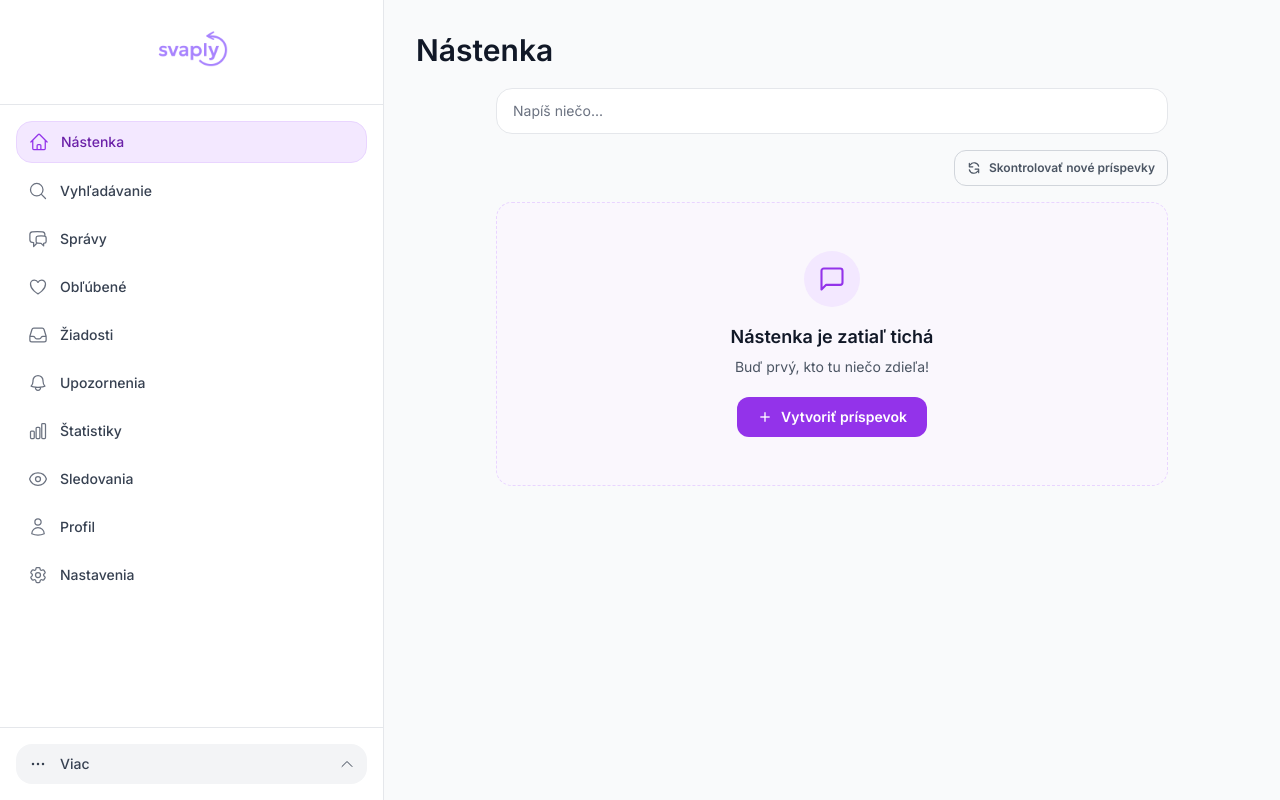
Test case: variant 2: vstup cez ľavé menu „Nastavenia" › Sledovanie: pravý panel aj šípka sú vidieť a šípka vedie rovno na Nástenku
Click the button "Nastavenia" at (97, 574), box [16, 555, 367, 595]
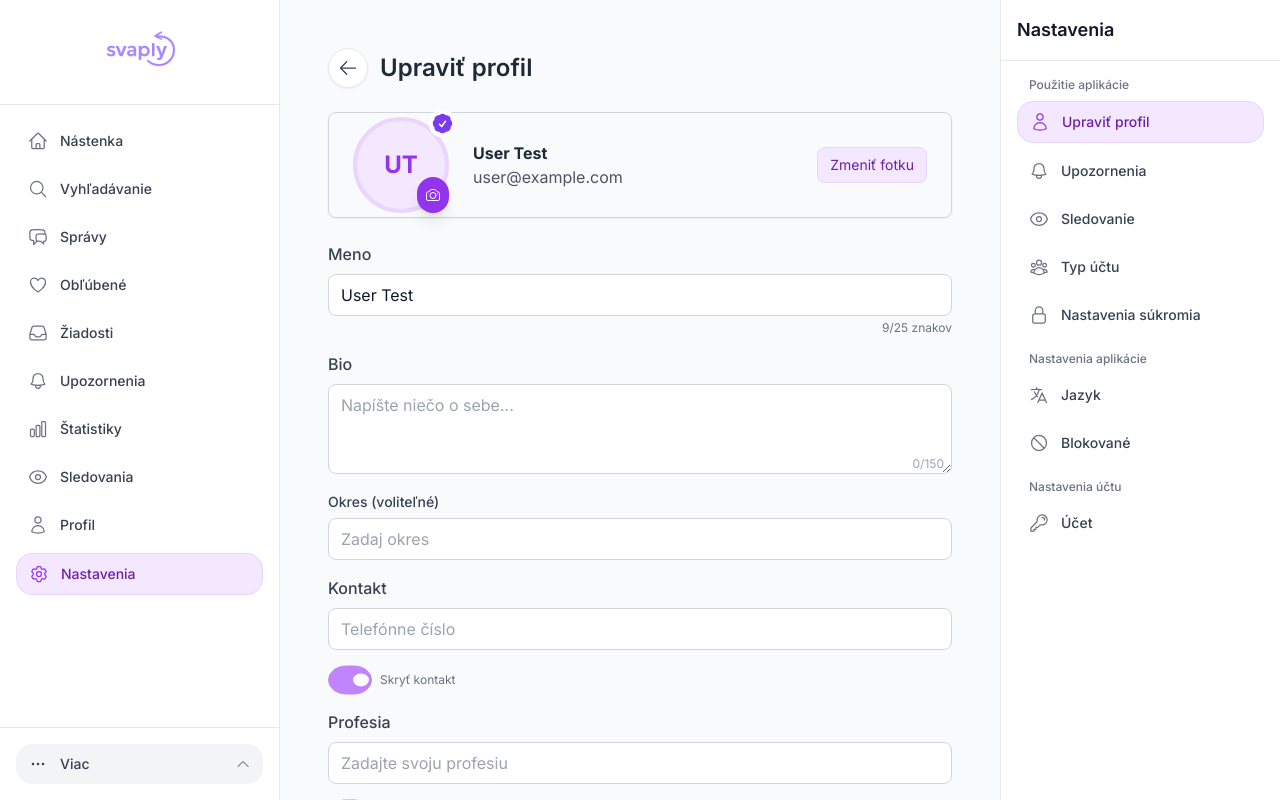
Click the button "Sledovanie" at (1140, 219), box [1017, 199, 1264, 239]
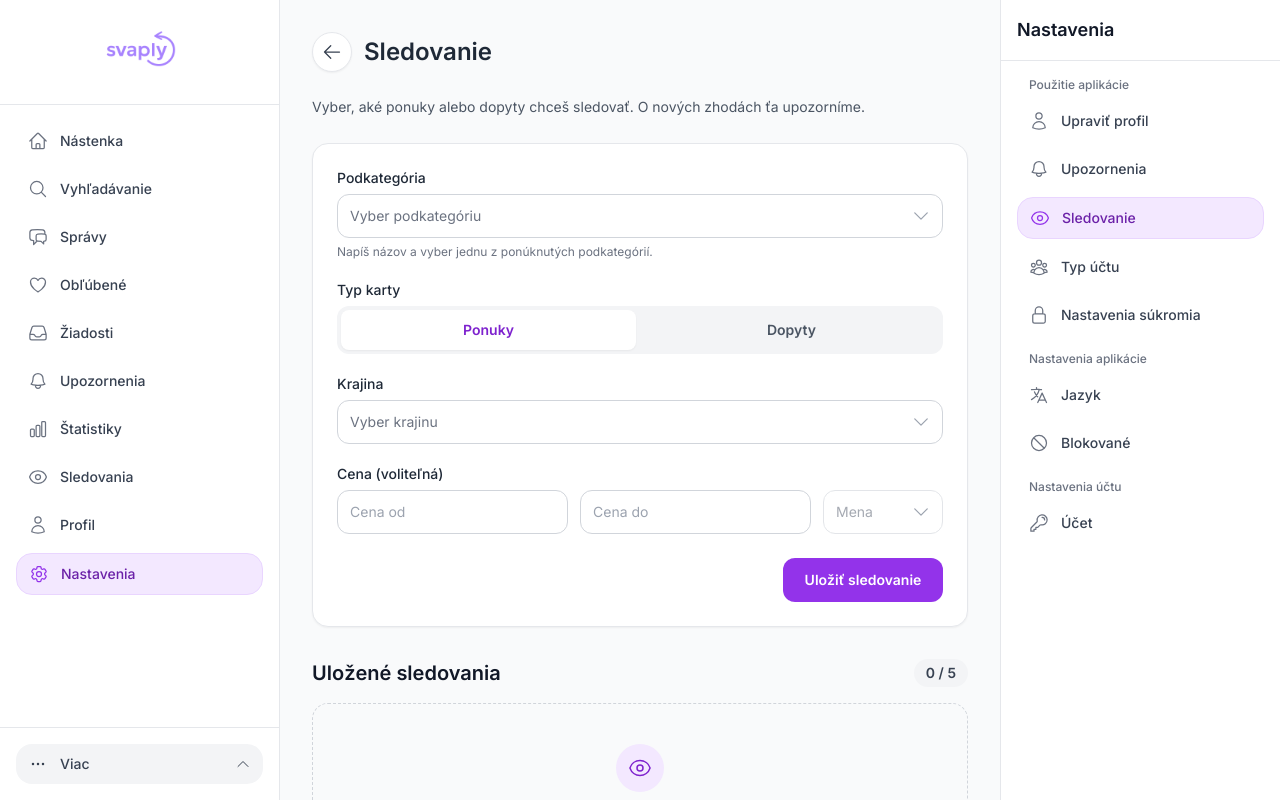
Click the button named "Späť" at (332, 52), box [312, 32, 352, 72]
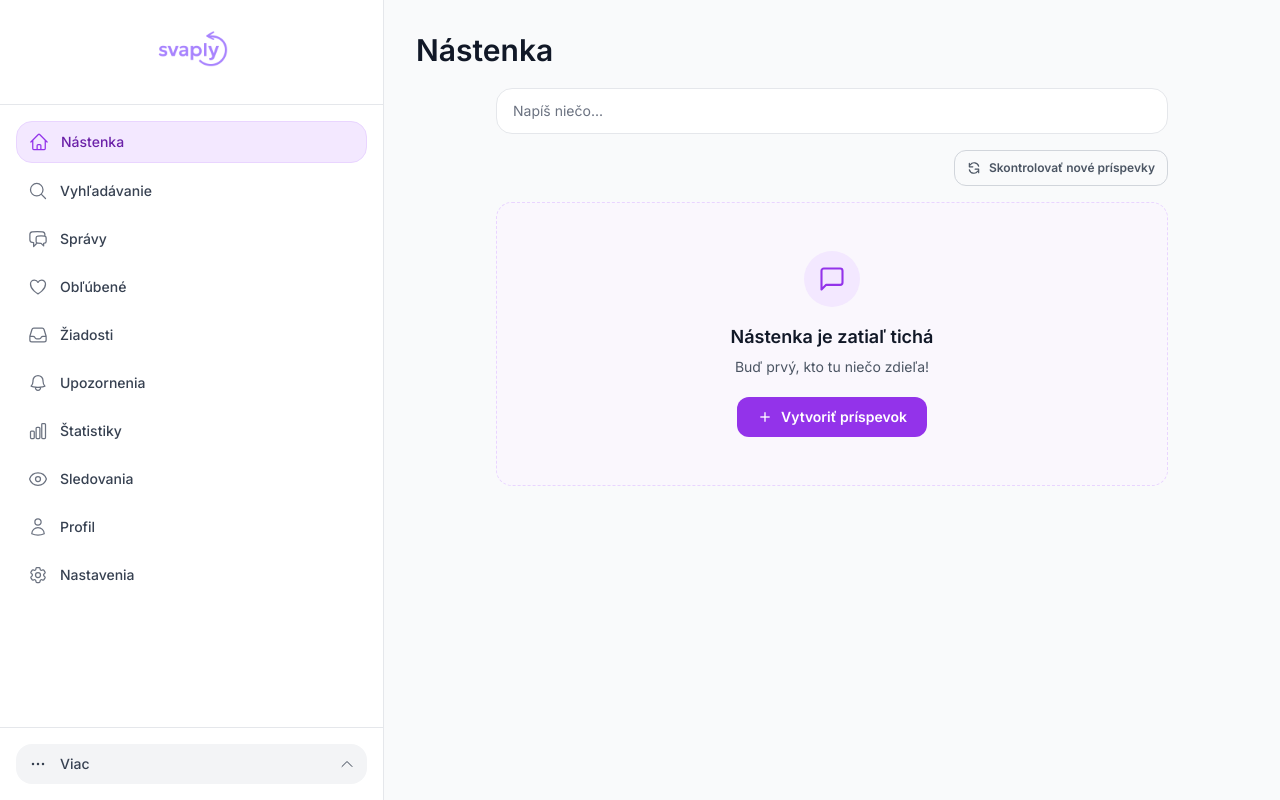
Check: the heading "Použitie aplikácie" is gone
